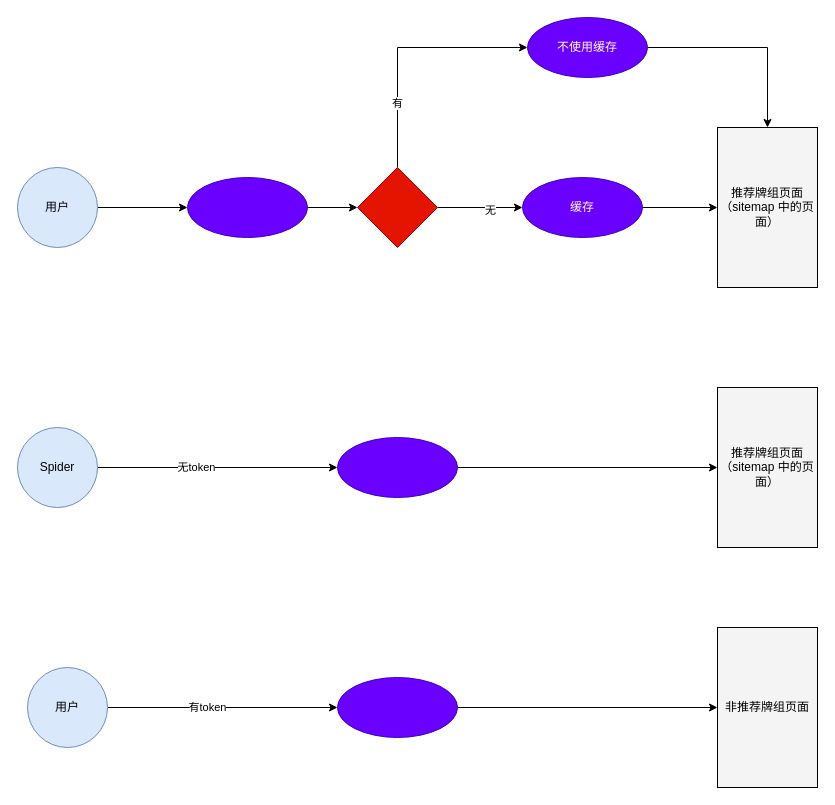
Some shapes in this 835 by 805 pixel diagram are drawn without their labels. The shapes that lost their labels are listed below. From the top down, each one's centre as x and y in pixels, then its label:
At (247,207): "SSR".
At (397,207): "有无token".
At (397,467): "SSR + 缓存".
At (397,707): "SPA".
